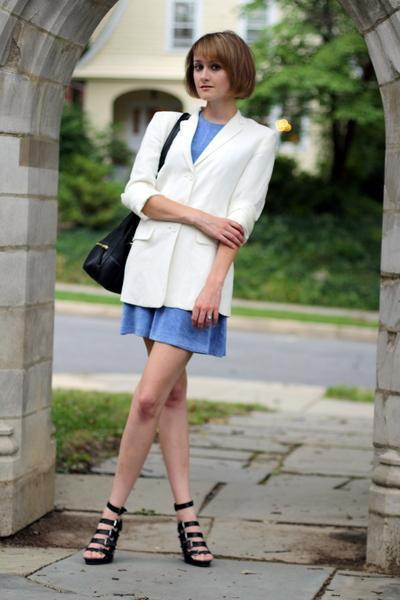dress: (122, 115, 226, 356)
jacket: (120, 108, 273, 315)
shirt: (158, 132, 177, 171)
shoe: (85, 502, 211, 567)
